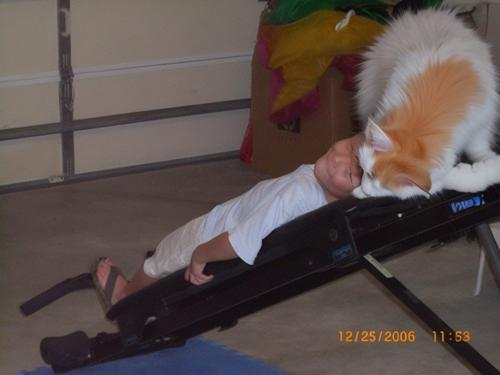cat: (350, 4, 500, 200)
person: (89, 132, 427, 325)
person/foot: (95, 258, 129, 306)
person/hand: (185, 258, 213, 286)
person/head: (313, 132, 425, 198)
